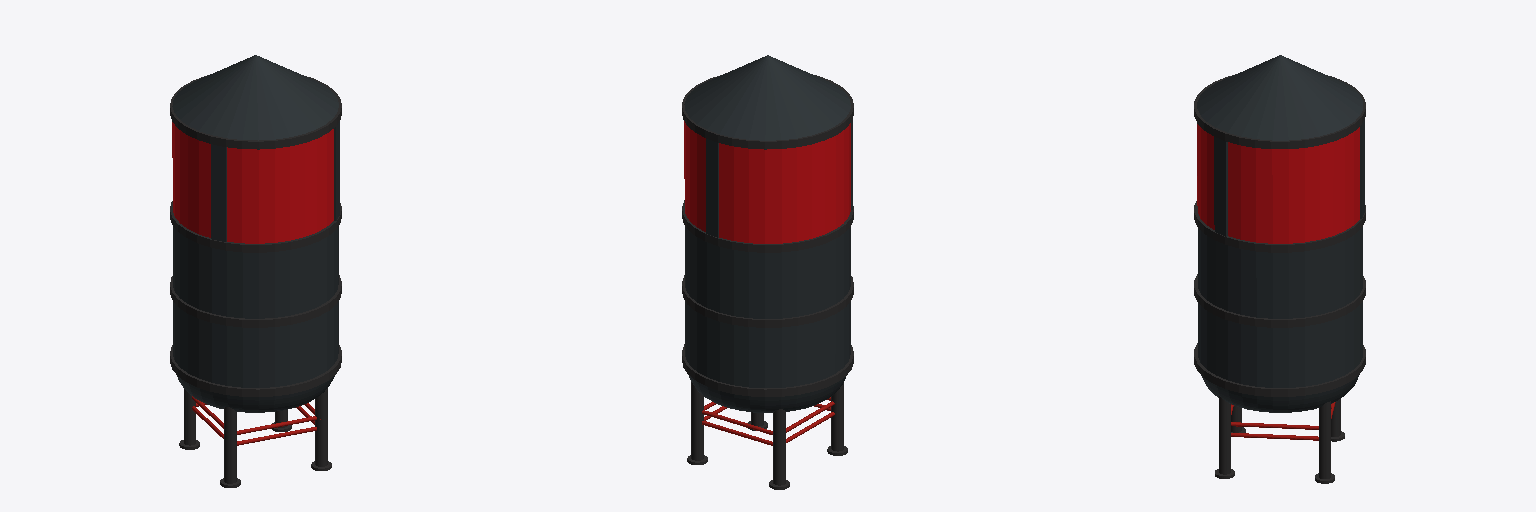
File: silo.obj
3 renders of one model, left to right at view 1: azimuth 30°, elevation 25°; view 2: azimuth 150°, elevation 25°; view 3: azimuth 270°, elevation 25°, orthographic.
Visible parts, largest first — view 1: Cylinder; view 2: Cylinder; view 3: Cylinder.
Part boxes in pixels (bbox=[...]): Cylinder: bbox=[170, 55, 341, 487]; Cylinder: bbox=[682, 55, 853, 489]; Cylinder: bbox=[1194, 55, 1365, 483].
Bounding box in the file's own units: 9.22 × 23.78 × 9.22.